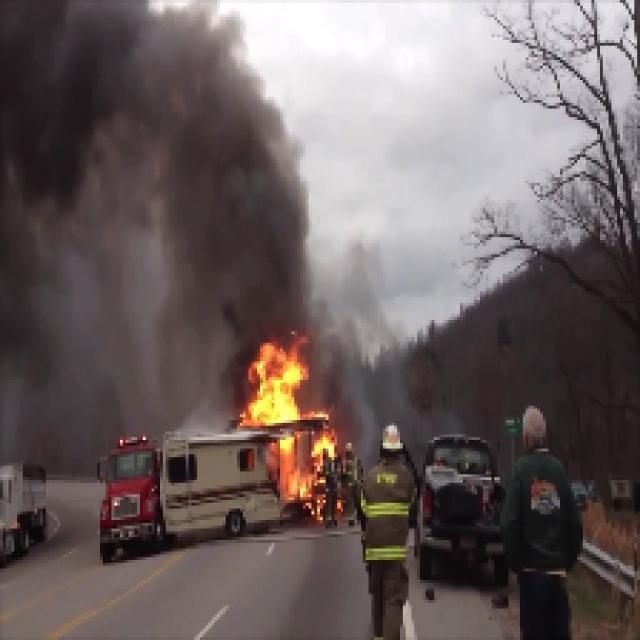Fire: (248, 348, 336, 504)
Smoke: (0, 0, 228, 431)
